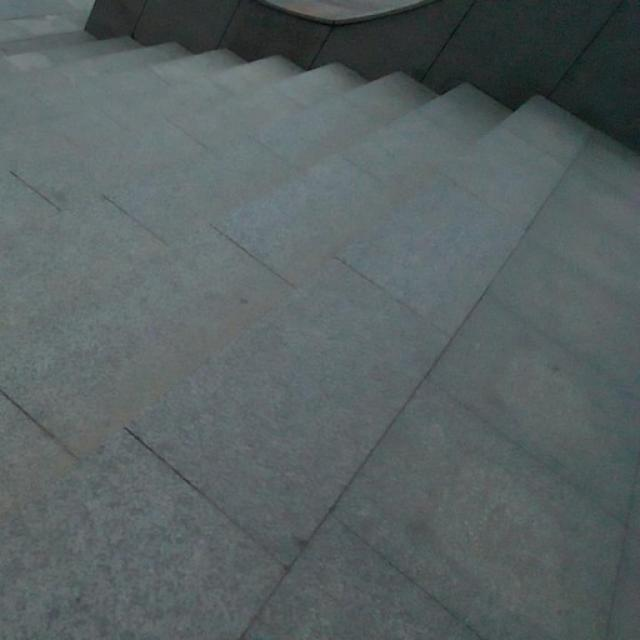stair: (0, 29, 497, 347)
